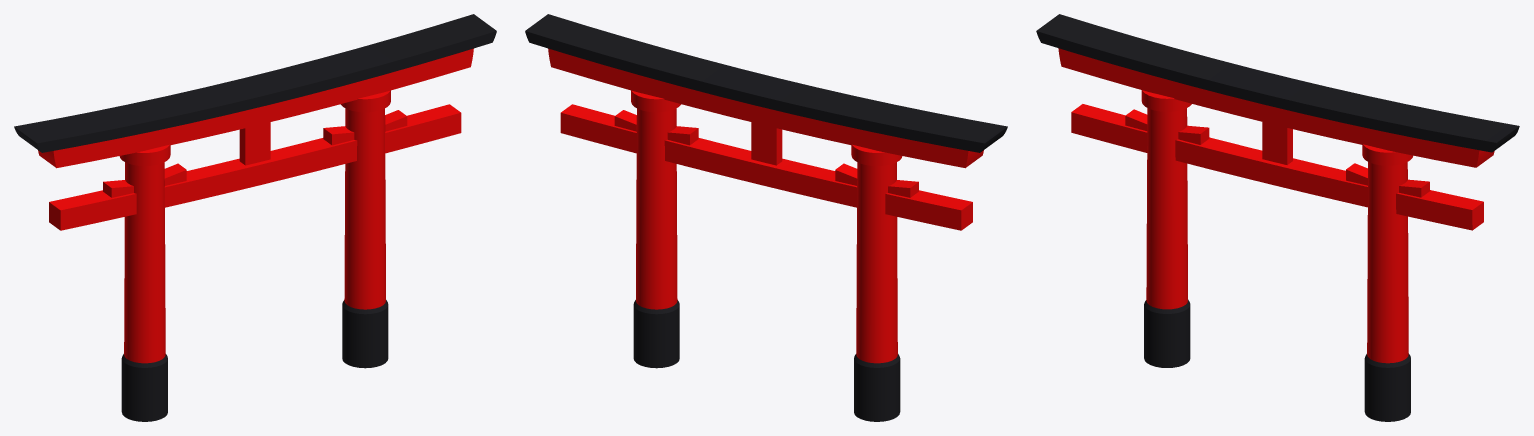
Rendered from gateway.fbx.
3 views of the same model, side by side, from view 1: azimuth 30°, elevation 25°; view 2: azimuth 150°, elevation 25°; view 3: azimuth 330°, elevation 25° (orthographic).
Parts seen in each view (by area): view 1: Mesh7 Component_4_1 Model_2, Mesh7 Component_4_1 Model; view 2: Mesh7 Component_4_1 Model_2, Mesh7 Component_4_1 Model; view 3: Mesh7 Component_4_1 Model_2, Mesh7 Component_4_1 Model.
Part boxes in pixels (x1,y1,x2,y2): Mesh7 Component_4_1 Model_2: (38, 48, 473, 363); Mesh7 Component_4_1 Model: (14, 14, 496, 421); Mesh7 Component_4_1 Model_2: (548, 48, 983, 363); Mesh7 Component_4_1 Model: (525, 14, 1007, 421); Mesh7 Component_4_1 Model_2: (1058, 48, 1494, 363); Mesh7 Component_4_1 Model: (1036, 14, 1519, 421).
Bounding box in the file's own units: 9.18 × 5.85 × 0.8856.
